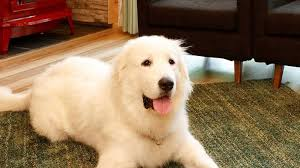dog: (104, 32, 215, 126)
